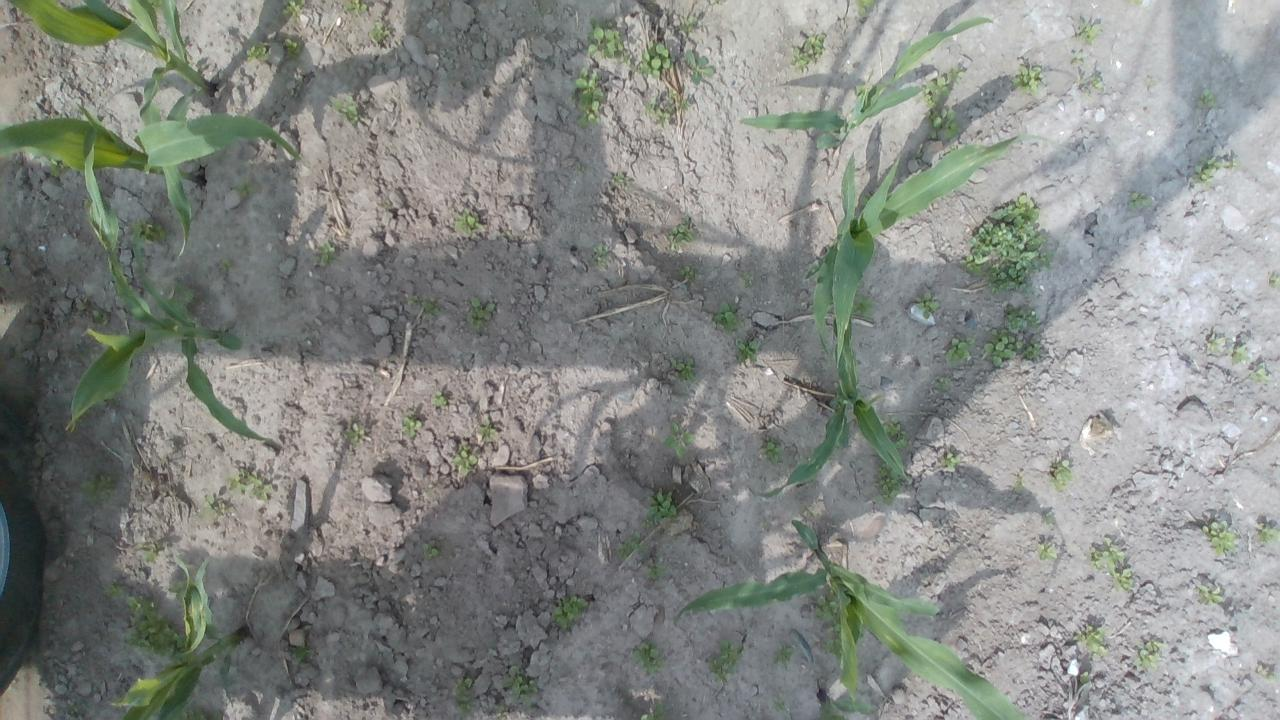Maize: (676, 520, 1026, 720), (68, 114, 268, 442), (808, 132, 1068, 375), (1, 0, 217, 258), (741, 18, 1000, 150), (756, 313, 912, 499), (0, 102, 307, 188), (111, 547, 248, 720), (814, 684, 874, 720)
Weeds: (960, 194, 1054, 298), (122, 594, 187, 663), (982, 304, 1042, 368), (921, 65, 965, 138), (564, 68, 606, 127), (1089, 536, 1133, 590), (584, 17, 632, 64), (501, 664, 540, 712), (705, 640, 744, 682), (636, 40, 674, 80), (1192, 156, 1240, 187), (227, 467, 272, 500), (640, 488, 676, 528), (549, 596, 587, 632), (871, 462, 902, 506), (791, 34, 825, 74), (631, 639, 666, 675), (1074, 624, 1108, 660), (1202, 520, 1238, 554), (662, 421, 695, 458), (879, 413, 909, 452), (79, 474, 118, 504), (130, 218, 174, 243), (685, 50, 716, 84), (466, 297, 496, 332), (712, 300, 744, 332), (642, 98, 674, 130), (331, 94, 362, 127), (453, 676, 475, 720), (617, 529, 647, 560), (1011, 65, 1042, 95), (816, 586, 841, 622), (944, 336, 976, 364), (668, 216, 694, 250), (1134, 640, 1163, 669), (451, 445, 477, 477), (310, 240, 342, 266), (914, 291, 940, 320), (452, 208, 481, 234), (1074, 20, 1103, 46), (198, 496, 228, 521), (134, 539, 165, 563), (849, 292, 876, 319), (669, 356, 697, 382), (822, 623, 841, 660), (761, 436, 784, 466), (1049, 459, 1071, 490), (772, 642, 796, 668), (734, 337, 758, 363), (586, 243, 610, 269), (1254, 522, 1280, 546), (399, 412, 422, 438), (233, 176, 260, 197), (1195, 584, 1222, 604), (643, 558, 667, 580), (476, 419, 497, 443), (638, 702, 665, 720), (244, 41, 268, 61), (1206, 331, 1226, 355), (1125, 191, 1151, 209), (344, 423, 366, 444), (167, 578, 186, 602), (282, 38, 302, 60), (1227, 344, 1249, 364), (1248, 365, 1272, 383), (293, 644, 316, 662), (280, 0, 304, 17), (368, 22, 388, 42), (46, 156, 64, 178), (1076, 75, 1102, 90), (1257, 666, 1278, 684), (854, 0, 876, 17), (1036, 543, 1058, 560), (105, 582, 124, 601), (670, 90, 688, 110), (422, 298, 442, 316), (91, 308, 110, 326), (1197, 90, 1216, 108), (940, 451, 960, 468), (678, 15, 698, 32), (346, 0, 367, 16), (422, 540, 439, 558), (768, 694, 787, 710), (933, 376, 953, 390), (679, 265, 696, 280), (612, 172, 630, 186), (432, 390, 448, 404), (1268, 272, 1280, 290), (146, 0, 164, 12), (740, 272, 754, 286), (1070, 52, 1084, 66), (219, 258, 232, 271), (1013, 474, 1023, 490), (574, 160, 586, 173), (75, 298, 88, 310), (1045, 510, 1055, 525), (1080, 670, 1090, 684), (408, 296, 419, 306), (912, 148, 922, 158), (1127, 0, 1143, 5), (1146, 77, 1154, 86)
